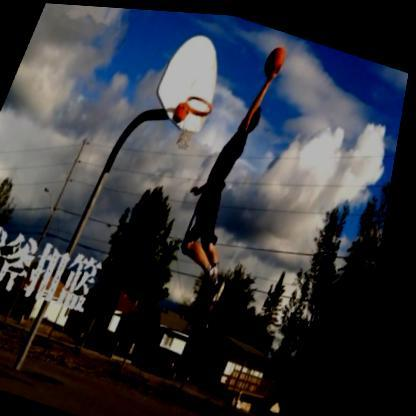basketball: (262, 38, 292, 74)
rim: (171, 92, 218, 151)
